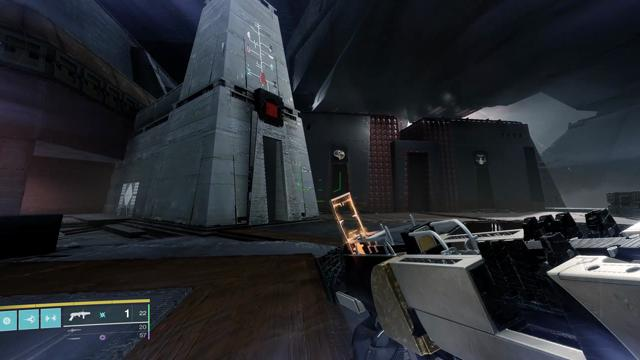brain: (333, 149, 346, 161)
drink: (475, 153, 487, 165)
stop: (262, 99, 280, 120)
